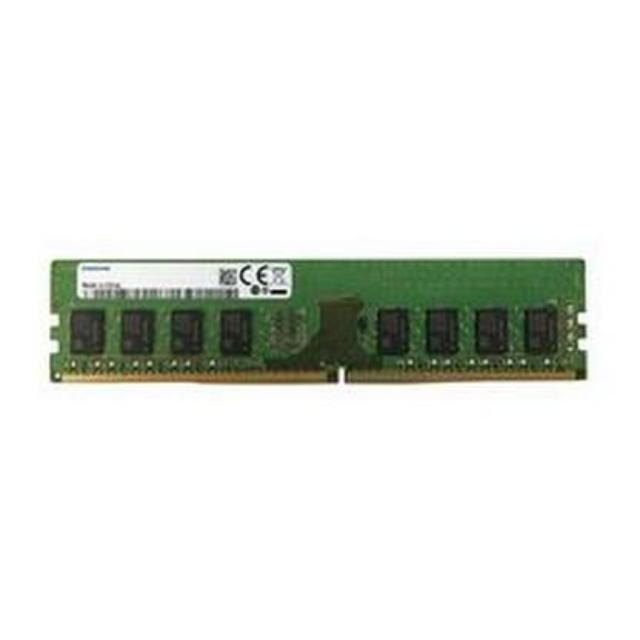RAM: (44, 256, 593, 394)
